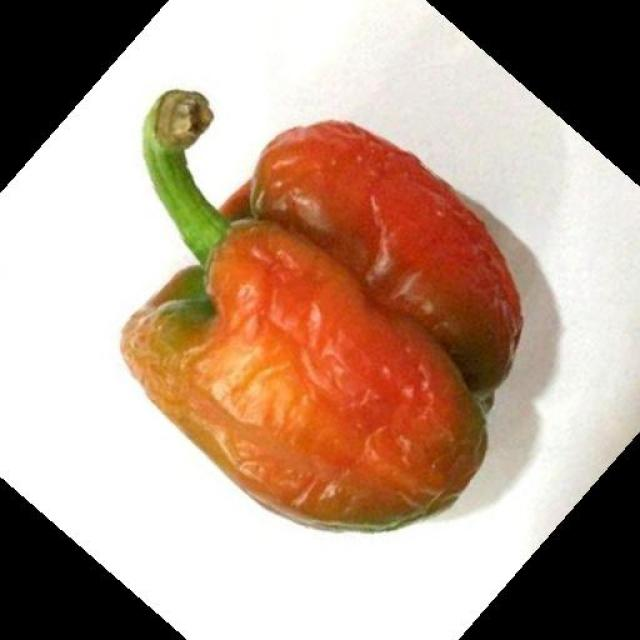Stale_Capsicum: (132, 73, 516, 534)
